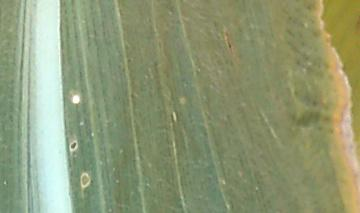tarspot: (224, 28, 239, 66), (66, 135, 82, 156)
